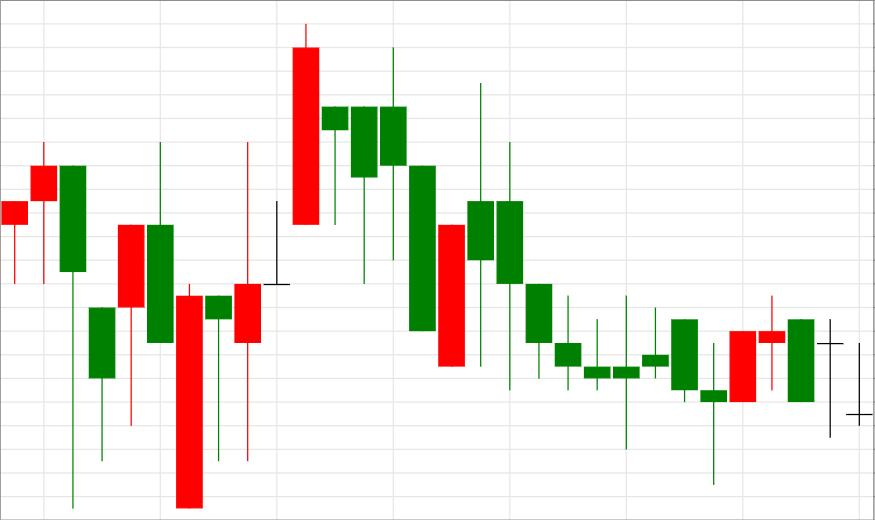morning_star_rise: (468, 84, 755, 485)
